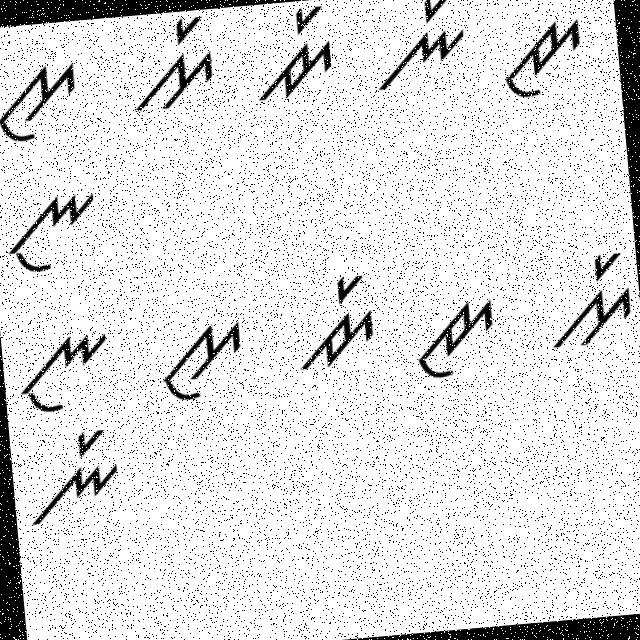jar: (278, 266, 381, 378), (242, 3, 340, 106)
jaw: (406, 282, 500, 392), (494, 4, 592, 104)
nyar: (362, 0, 471, 98)
nyaw: (9, 316, 116, 421), (0, 178, 104, 279)
sar: (528, 243, 639, 356), (19, 426, 126, 542), (124, 12, 220, 123)
saw: (152, 308, 259, 416), (0, 53, 86, 147)
